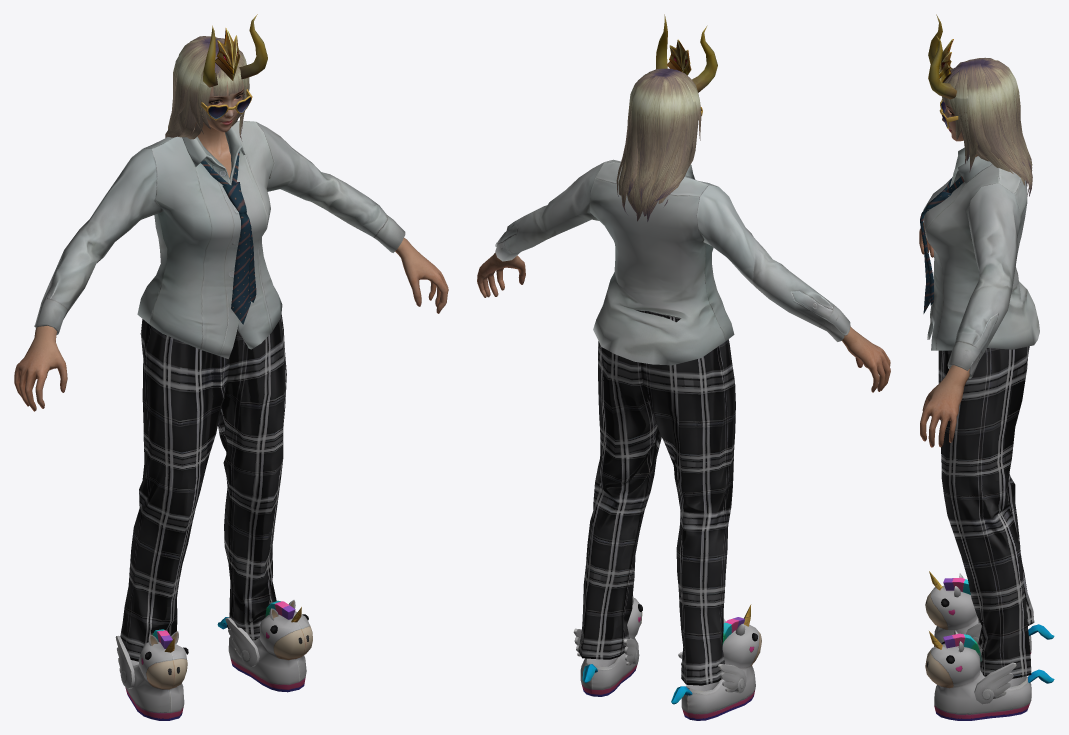
File: hina.glb
3 renders of one model, left to right at view 1: azimuth 30°, elevation 25°; view 2: azimuth 150°, elevation 25°; view 3: azimuth 270°, elevation 25°, orthographic. The views are drawn at different scales.
Visible parts, largest first — view 1: hina; view 2: hina; view 3: hina.
Boxes of the visible parts, x1=… form: hina: x1=14, y1=14, x2=448, y2=720; hina: x1=477, y1=14, x2=890, y2=720; hina: x1=919, y1=14, x2=1054, y2=720.
Bounding box in the file's own units: 0.6053 × 0.9396 × 0.1745.
Materials: 8 (8 with a texture image).
